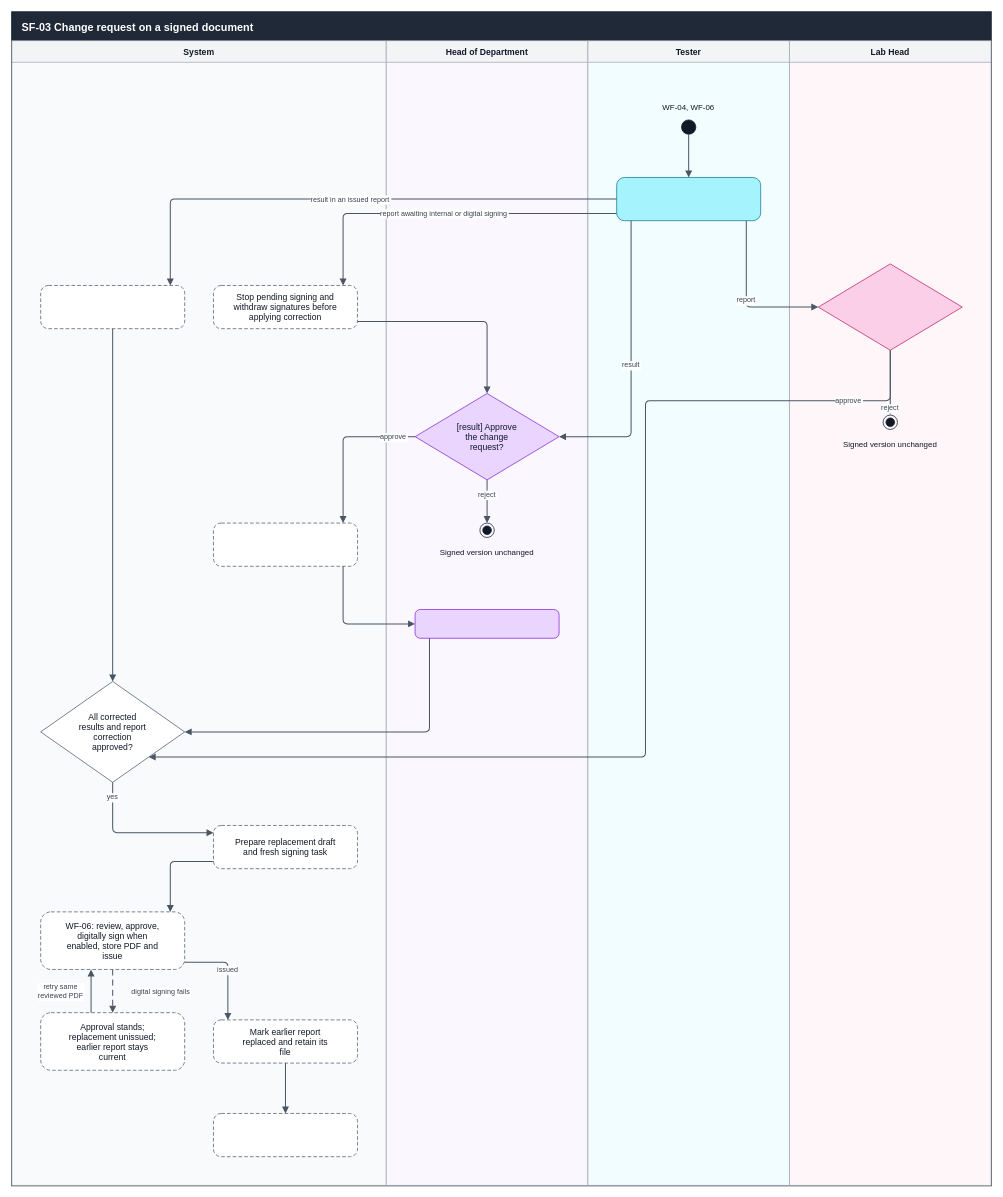
Image size: 1003x1197. Some labels were removed from this diagram. The shapes that lost their labels are listed below. From the top down, each one's centre as x and y in pixels, then its label:
[688,199]: Raise correction with changes and reason
[112,307]: Create or link the report change request
[890,306]: [report] Approve the change request?
[285,544]: Create unsigned corrected result version
[486,623]: Approve corrected results
[285,1135]: Notify customer and offer replacement PDF
